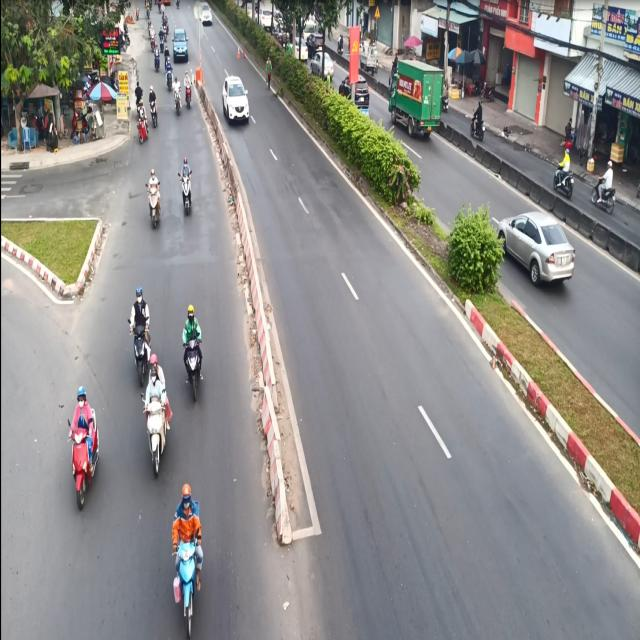car: (219, 68, 250, 130), (168, 21, 190, 58)
motor: (160, 472, 208, 635), (69, 378, 103, 518), (143, 355, 178, 475), (180, 301, 202, 398), (133, 277, 150, 390), (145, 162, 166, 235), (178, 153, 200, 219)
